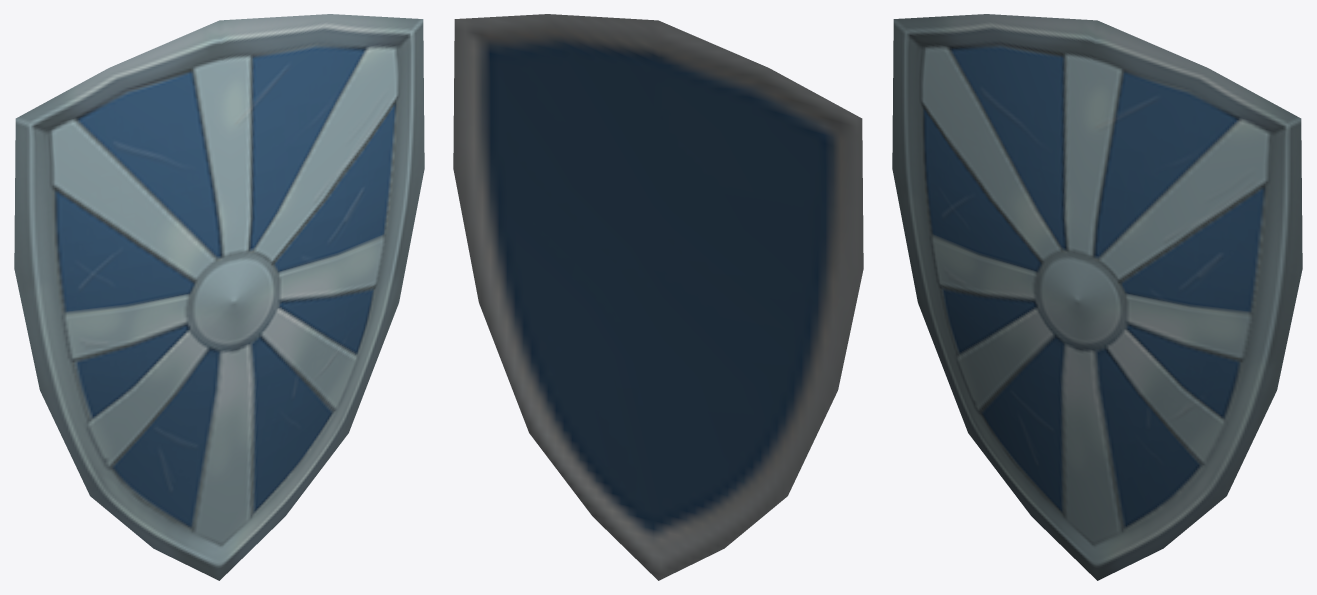
The model's file is 101_lv2_shield.FBX.
3 renders of one model, left to right at view 1: azimuth 30°, elevation 25°; view 2: azimuth 150°, elevation 25°; view 3: azimuth 330°, elevation 25°, orthographic.
Visible parts, largest first — view 1: 101_lv2_shield; view 2: 101_lv2_shield; view 3: 101_lv2_shield.
Boxes of the visible parts, box(x1,y1,x2,y2) form: 101_lv2_shield: box(14, 14, 424, 580); 101_lv2_shield: box(453, 14, 863, 580); 101_lv2_shield: box(892, 14, 1302, 580).
Size of the model in its own units: 39.85 by 52.02 by 2.92.
